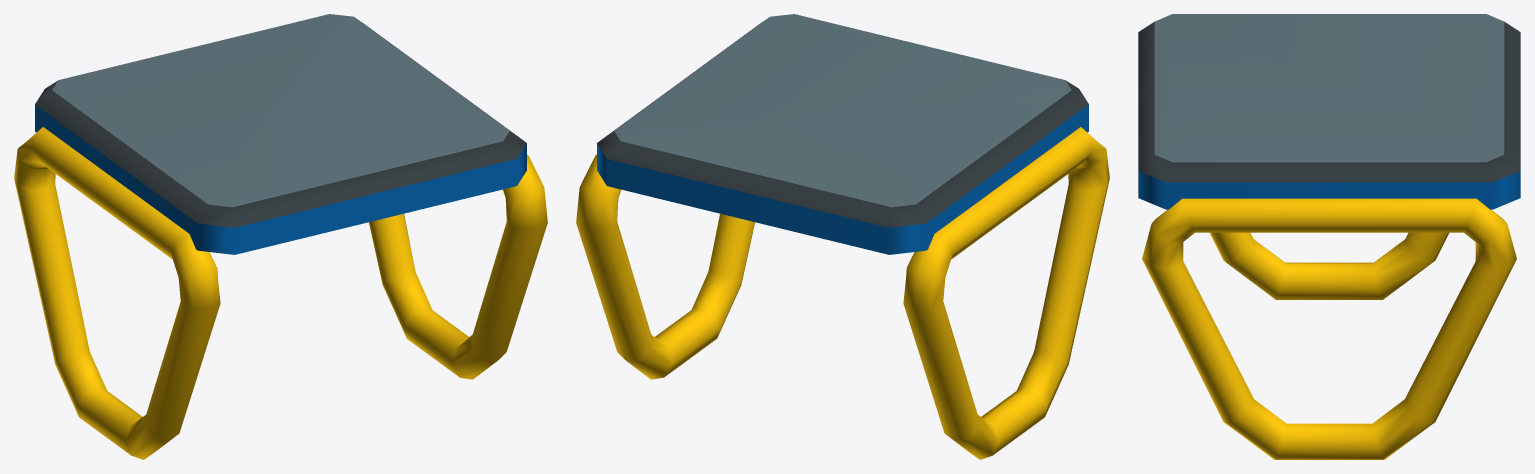
File: Chair_007.fbx
The picture shows the model from 3 angles, left to right: view 1: azimuth 30°, elevation 25°; view 2: azimuth 150°, elevation 25°; view 3: azimuth 270°, elevation 25°; orthographic projection.
Visible parts, largest first — view 1: Chair_007; view 2: Chair_007; view 3: Chair_007.
Part boxes in pixels (x1,y1,x2,y2): Chair_007: (14,14,547,459); Chair_007: (576,14,1109,459); Chair_007: (1138,14,1520,459).
Size of the model in its own units: 57.42 by 51.84 by 43.58.
